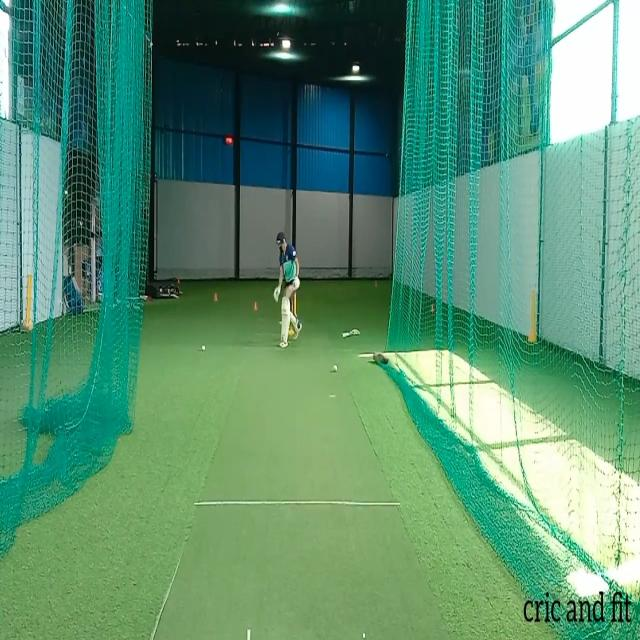batsman: (272, 230, 304, 349)
